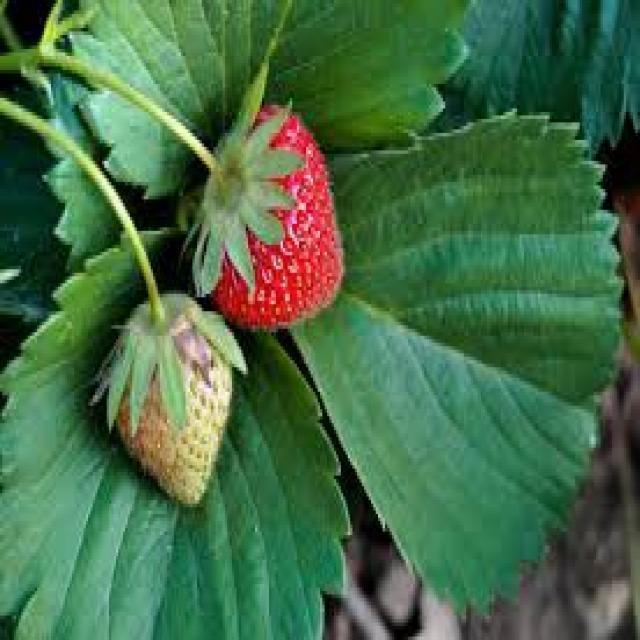ripe: (204, 104, 345, 328)
unripe: (112, 300, 233, 510)
